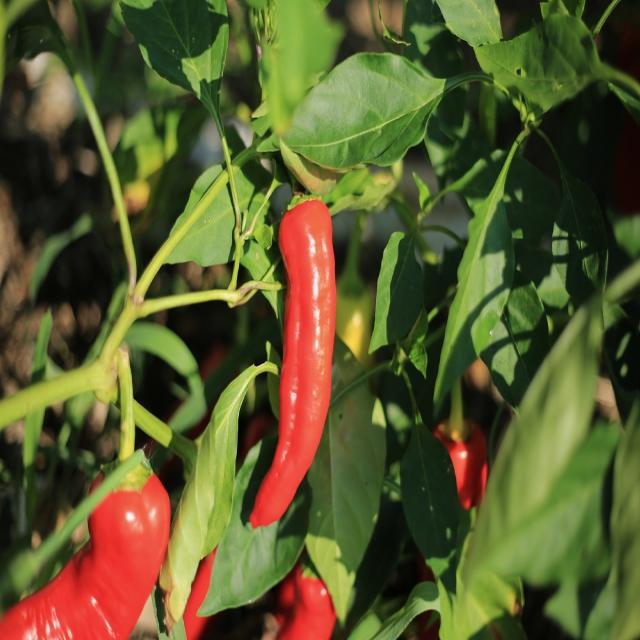Ripe: (250, 198, 336, 528), (0, 475, 170, 639)
